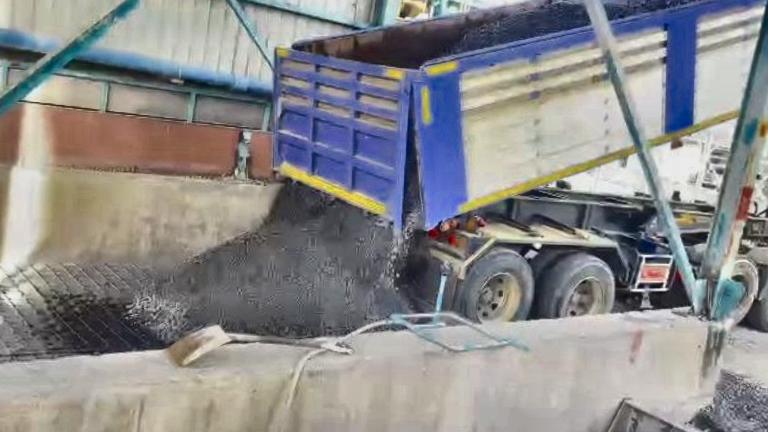gravel: (129, 182, 408, 340), (446, 0, 589, 53), (697, 371, 768, 432), (601, 0, 731, 19)
